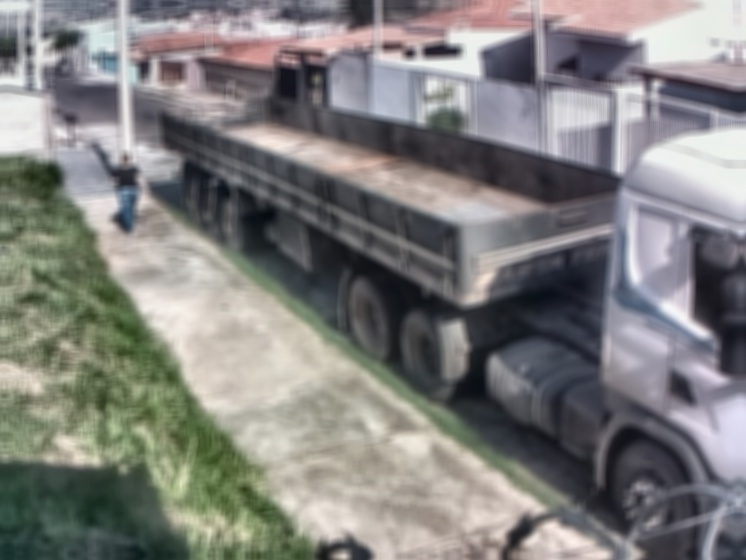person: (109, 150, 155, 241)
